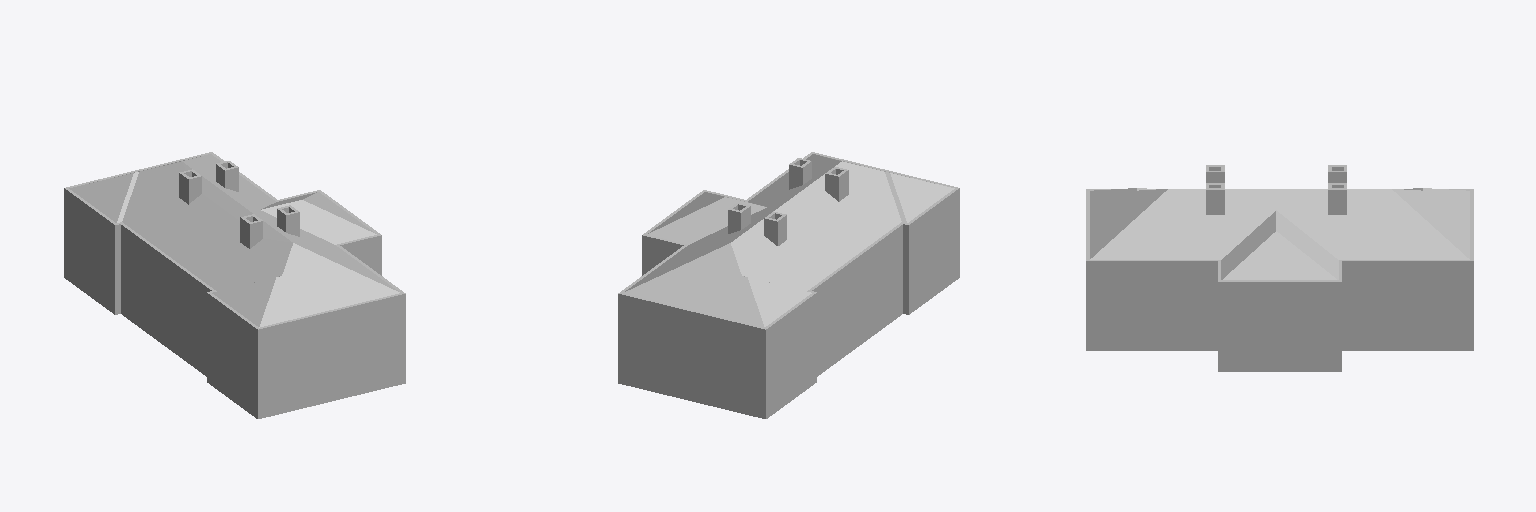
The model's file is bingham.obj.
The picture shows the model from 3 angles: view 1: azimuth 30°, elevation 25°; view 2: azimuth 150°, elevation 25°; view 3: azimuth 270°, elevation 25°; orthographic projection.
Parts seen in each view (by area): view 1: SketchUp, SketchUp_ID3; view 2: SketchUp, SketchUp_ID3; view 3: SketchUp, SketchUp_ID3.
Boxes of the visible parts, x1=… form: SketchUp: x1=64, y1=152, x2=405, y2=418; SketchUp_ID3: x1=69, y1=154, x2=399, y2=327; SketchUp: x1=618, y1=152, x2=959, y2=418; SketchUp_ID3: x1=624, y1=154, x2=954, y2=327; SketchUp: x1=1086, y1=165, x2=1473, y2=371; SketchUp_ID3: x1=1090, y1=188, x2=1469, y2=279.
Size of the model in its own units: 2.99 by 2.09 by 5.28.